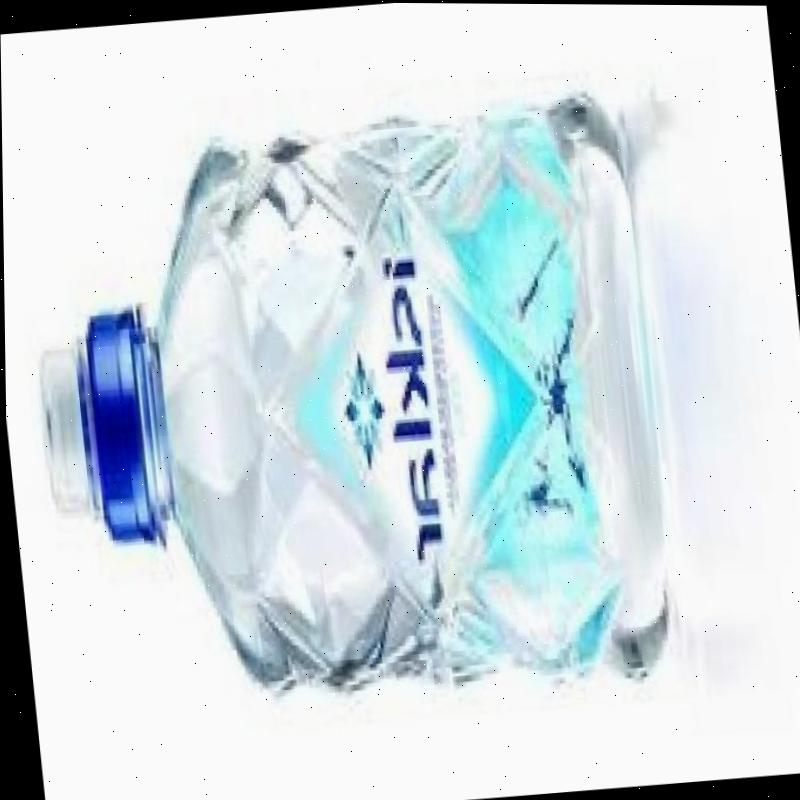botella: (12, 106, 685, 723)
